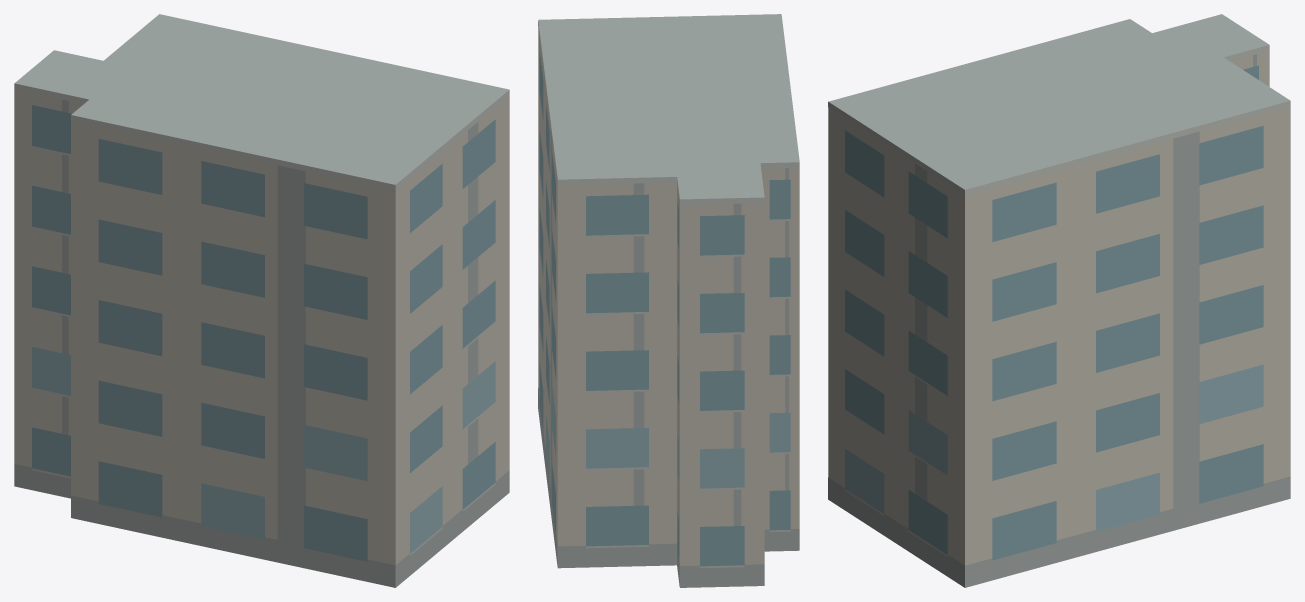
Rendered from survey-upis-32952208.glb.
3 views of the same model, side by side, from view 1: azimuth 30°, elevation 25°; view 2: azimuth 150°, elevation 25°; view 3: azimuth 270°, elevation 25° (orthographic). The views are drawn at different scales.
Visible parts, largest first — view 1: survey-upis-32952208.tmp; view 2: survey-upis-32952208.tmp; view 3: survey-upis-32952208.tmp.
Part boxes in pixels (left/top/right/bottom): survey-upis-32952208.tmp: left=14, top=14, right=509, bottom=587; survey-upis-32952208.tmp: left=538, top=14, right=799, bottom=587; survey-upis-32952208.tmp: left=828, top=14, right=1290, bottom=587.
Bounding box in the file's own units: 16 × 16.86 × 17.77.
